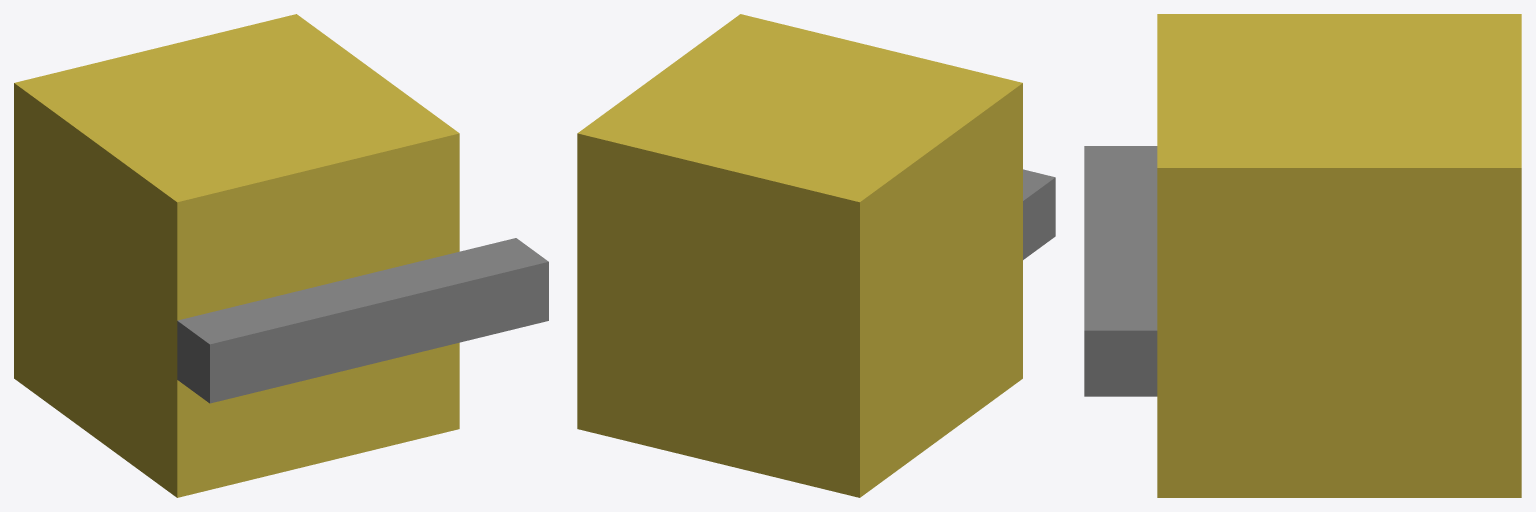
Rendered from bron_testmodel.glb.
3 views of the same model, side by side, from view 1: azimuth 30°, elevation 25°; view 2: azimuth 150°, elevation 25°; view 3: azimuth 270°, elevation 25° (orthographic). The views are drawn at different scales.
Visible parts, largest first — view 1: Voet, Arm; view 2: Voet, Arm; view 3: Voet, Arm.
Part boxes in pixels (left/top/right/bottom): Voet: left=14, top=14, right=459, bottom=497; Arm: left=177, top=238, right=548, bottom=403; Voet: left=577, top=14, right=1022, bottom=497; Arm: left=1023, top=169, right=1055, bottom=259; Voet: left=1157, top=14, right=1521, bottom=497; Arm: left=1084, top=146, right=1157, bottom=396.
Bounding box in the file's own units: 1200 × 1000 × 1200.
